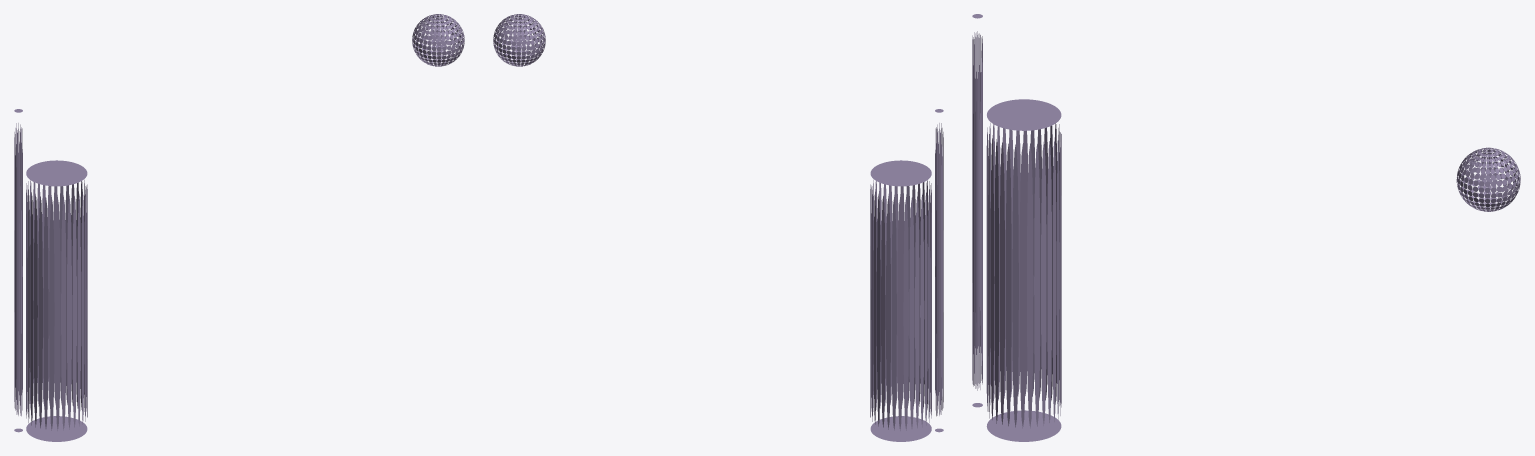
The model's file is CH_Wizard_PBR.glb.
The picture shows the model from 3 angles, left to right: view 1: azimuth 30°, elevation 25°; view 2: azimuth 150°, elevation 25°; view 3: azimuth 330°, elevation 25°; orthographic projection. The views are drawn at different scales.
Parts seen in each view (by area): view 1: CH_Wizard_Body, CH_Wizard_Staff, CH_Wizard_Head; view 2: CH_Wizard_Body, CH_Wizard_Staff, CH_Wizard_Head; view 3: CH_Wizard_Body, CH_Wizard_Staff, CH_Wizard_Head.
Part boxes in pixels (x1,y1,x2,y2): CH_Wizard_Body: (26, 160, 87, 441); CH_Wizard_Staff: (14, 109, 22, 432); CH_Wizard_Head: (412, 14, 464, 66); CH_Wizard_Body: (870, 160, 931, 441); CH_Wizard_Staff: (935, 109, 943, 432); CH_Wizard_Head: (493, 14, 545, 66); CH_Wizard_Body: (986, 99, 1061, 441); CH_Wizard_Staff: (972, 14, 982, 407); CH_Wizard_Head: (1456, 147, 1520, 211).
Size of the model in its own units: 5.85 by 4.1 by 0.6994.
